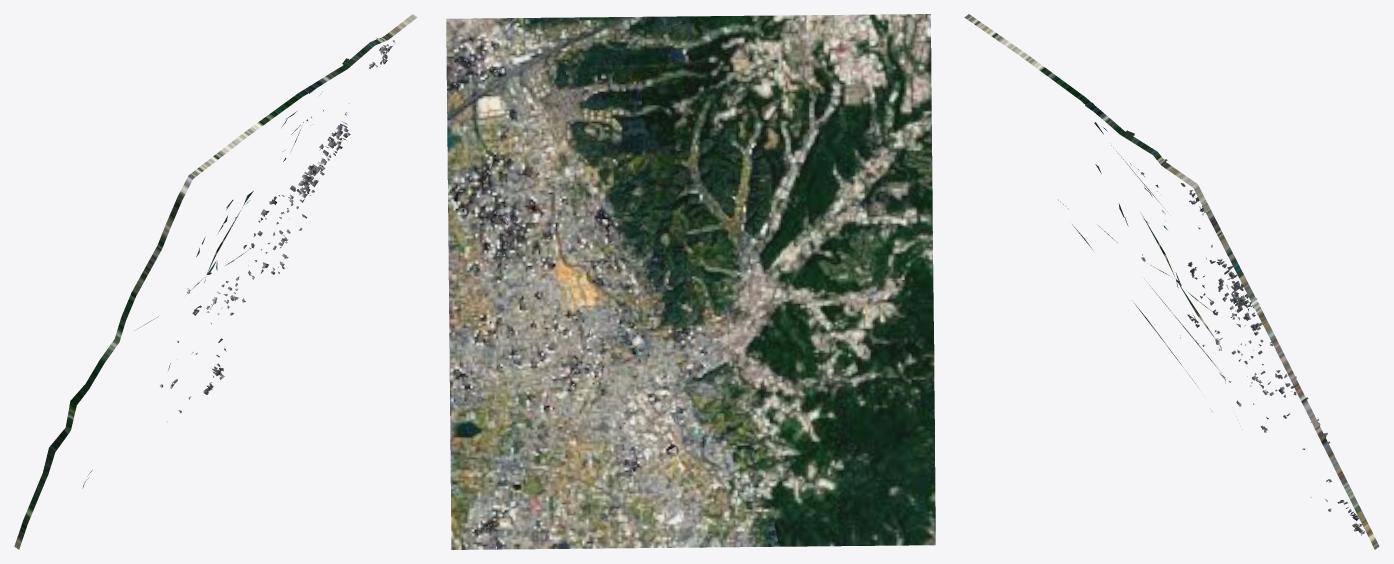
3 views of the same model, side by side, from view 1: azimuth 30°, elevation 25°; view 2: azimuth 150°, elevation 25°; view 3: azimuth 270°, elevation 25° (orthographic). The views are drawn at different scales.
Bounding box in the file's own units: 9789 × 9000 × 8124.
Materials: 1 (1 with a texture image).
